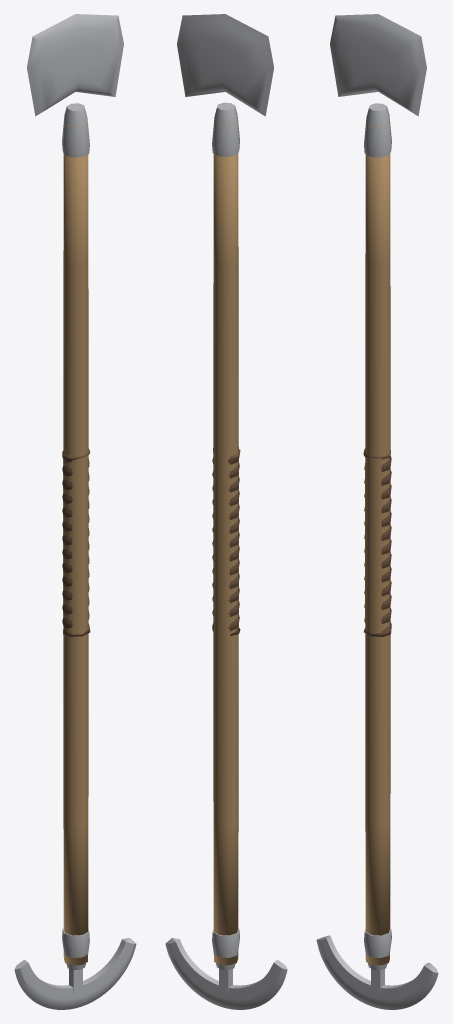
File: monks-spade.glb
The picture shows the model from 3 angles, left to right: view 1: azimuth 30°, elevation 25°; view 2: azimuth 150°, elevation 25°; view 3: azimuth 330°, elevation 25°; orthographic projection.
Parts seen in each view (by area): view 1: monks-spade; view 2: monks-spade; view 3: monks-spade.
Part boxes in pixels (x1=…): monks-spade: x1=14, y1=14, x2=136, y2=1009; monks-spade: x1=165, y1=14, x2=287, y2=1009; monks-spade: x1=316, y1=14, x2=438, y2=1009.
Size of the model in its own units: 0.427 by 3.32 by 0.0882.
